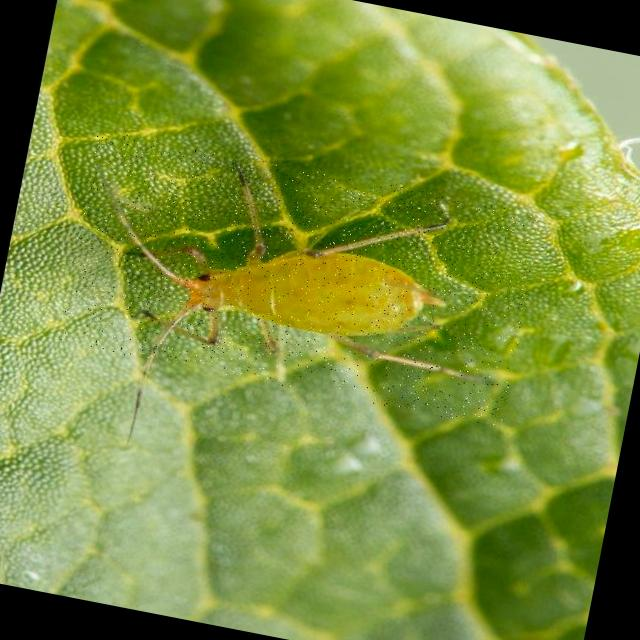aphid: (56, 128, 542, 428)
